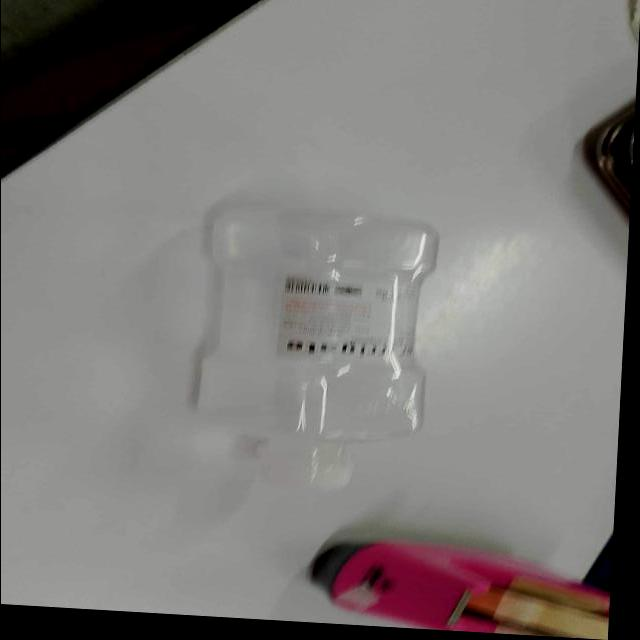General: (3, 1, 636, 635)
Pathological: (191, 201, 441, 448)
Sharps: (311, 538, 611, 638)
